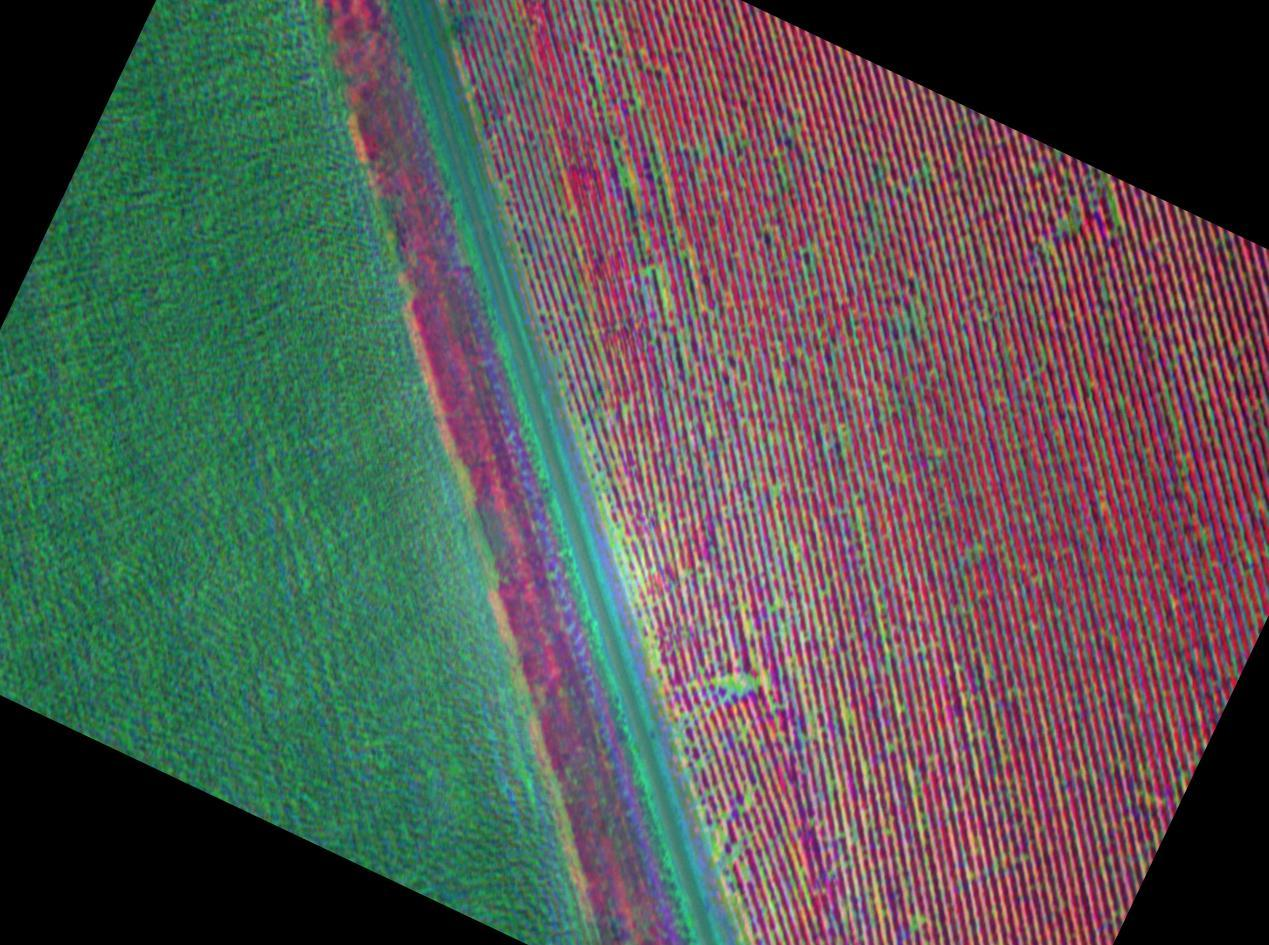dc: (727, 679, 732, 686), (644, 269, 650, 274), (771, 488, 776, 494), (614, 151, 619, 156), (1109, 202, 1114, 207), (623, 406, 627, 412), (1074, 222, 1078, 227), (995, 396, 999, 401), (838, 428, 842, 433), (885, 746, 890, 750), (648, 638, 652, 642), (912, 925, 916, 929), (846, 713, 850, 716)
